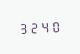four: (40, 19, 50, 33)
three: (18, 21, 28, 34)
two: (29, 20, 39, 34)
zero: (51, 19, 61, 32)
